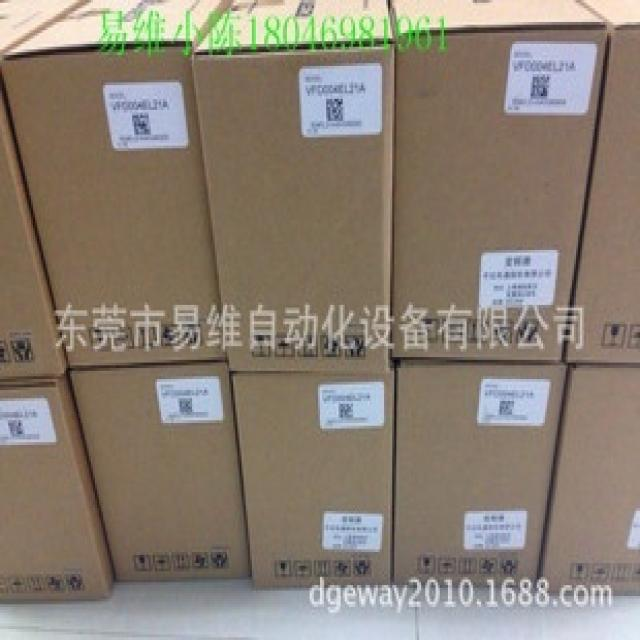box: (0, 1, 224, 372), (389, 1, 610, 359), (191, 1, 395, 375), (395, 358, 569, 588), (69, 363, 249, 583), (231, 374, 395, 587), (563, 0, 638, 365), (0, 380, 117, 602), (540, 363, 638, 593), (1, 59, 69, 386)
